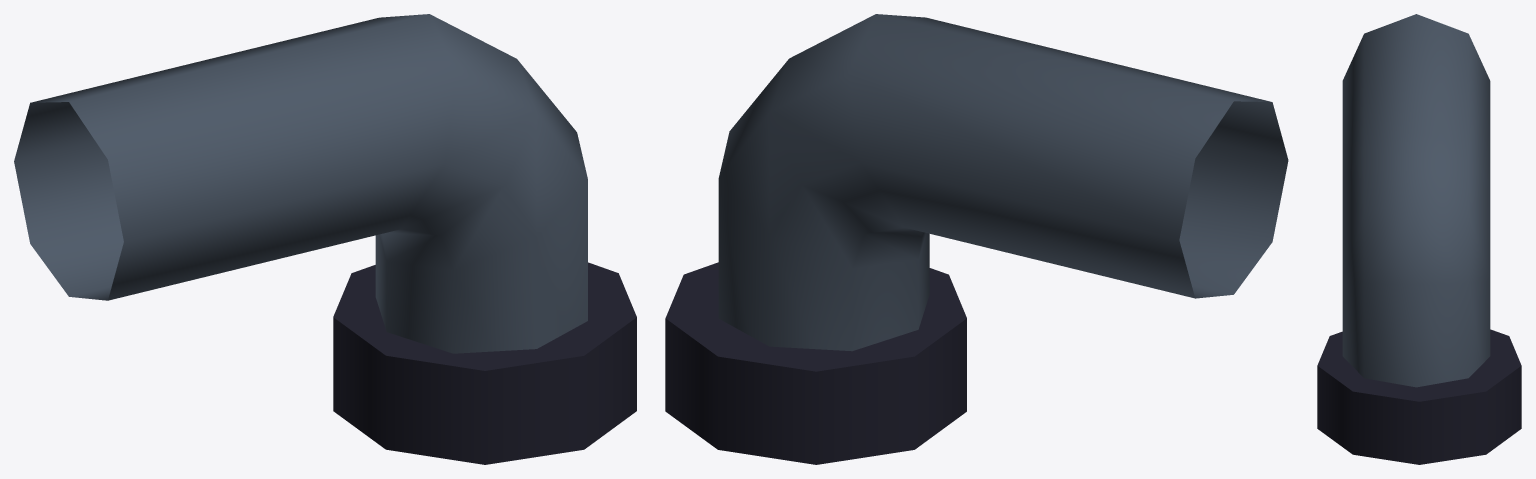
File: Pipe_1_A_2_1.fbx
3 renders of one model, left to right at view 1: azimuth 30°, elevation 25°; view 2: azimuth 150°, elevation 25°; view 3: azimuth 270°, elevation 25°, orthographic. The views are drawn at different scales.
Visible parts, largest first — view 1: Pipe_1_A_2_1; view 2: Pipe_1_A_2_1; view 3: Pipe_1_A_2_1.
Part boxes in pixels (x1,y1,x2,y2): Pipe_1_A_2_1: (14,14,636,464); Pipe_1_A_2_1: (665,14,1288,464); Pipe_1_A_2_1: (1317,14,1521,464).
Bounding box in the file's own units: 63.18 × 43.92 × 30.12.
